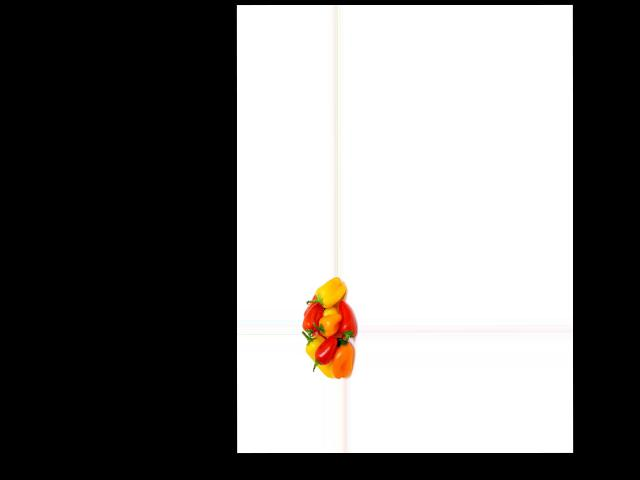bell_pepper: (303, 335, 333, 377)
